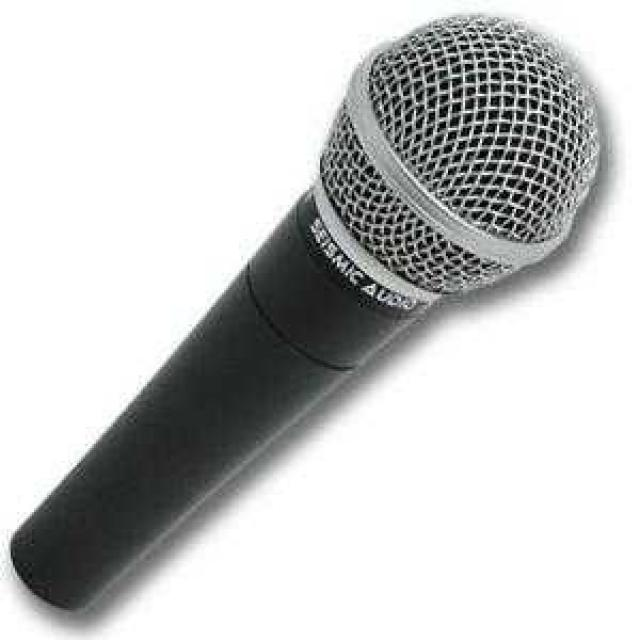microphone: (18, 12, 591, 617)
